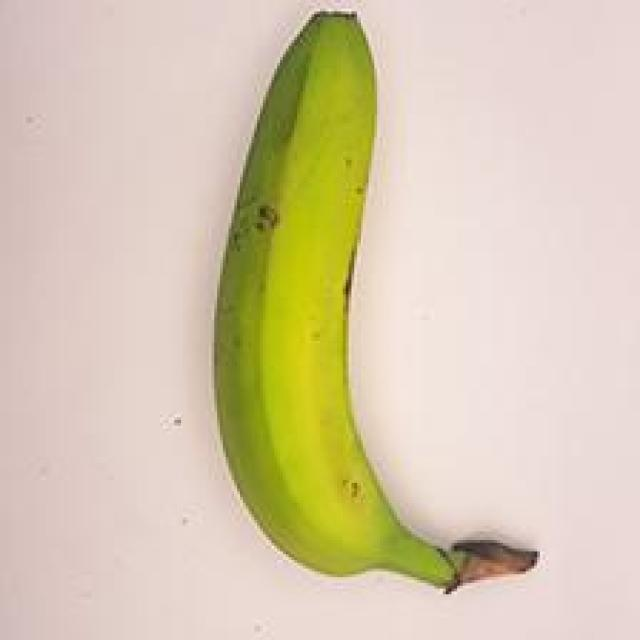Unripe: (192, 0, 560, 614)
